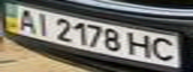1: (69, 20, 87, 46)
2: (51, 16, 75, 43)
7: (84, 22, 106, 50)
8: (103, 26, 127, 53)
A: (12, 7, 39, 34)
C: (148, 35, 181, 63)
H: (127, 30, 157, 57)
I: (30, 10, 54, 37)
